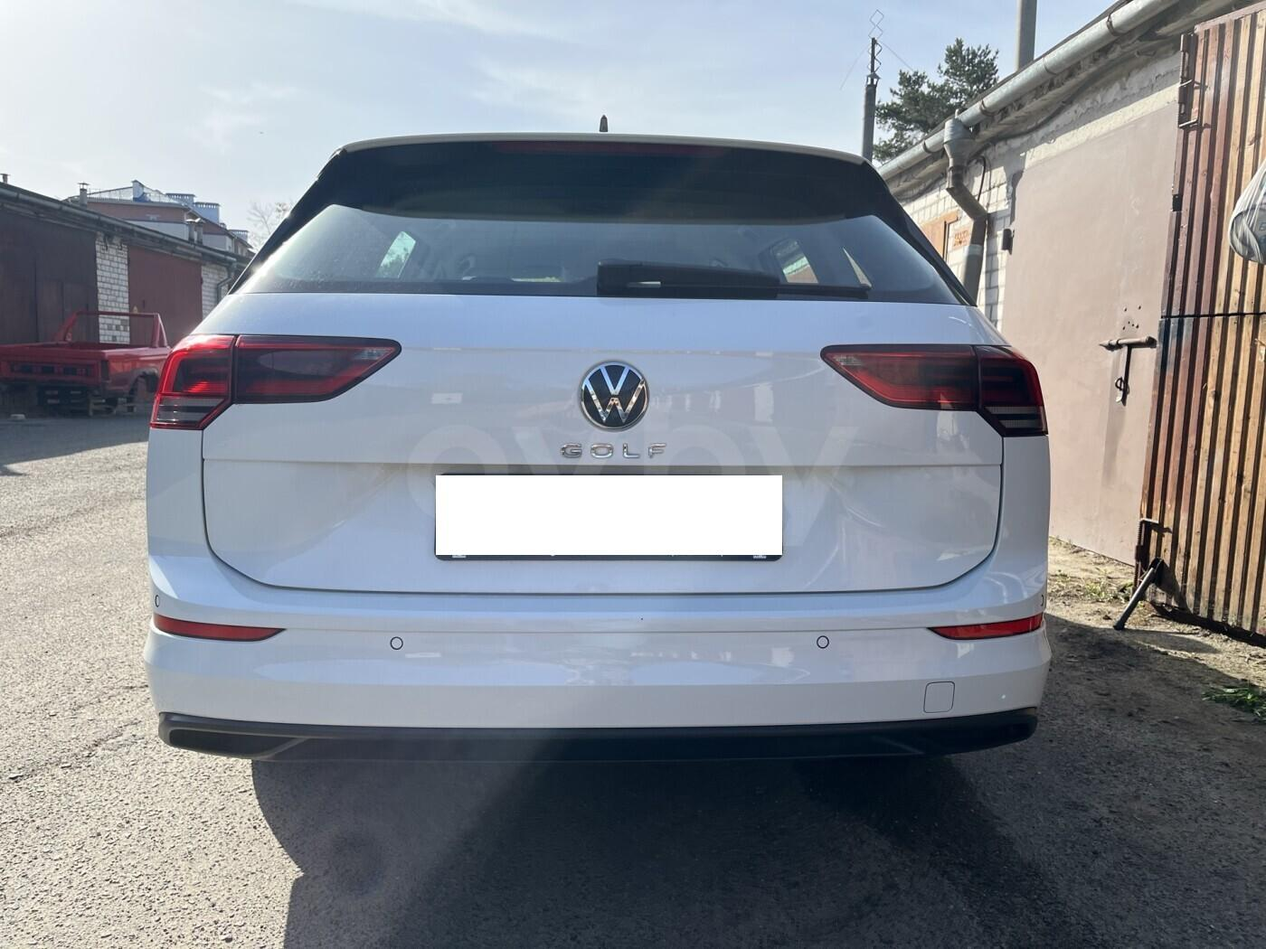Golf_2019: (134, 124, 1052, 775)
